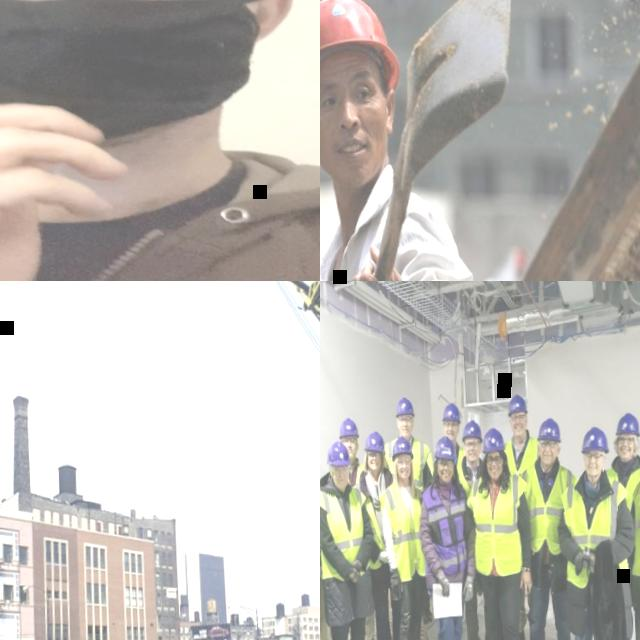Hardhat: (320, 0, 403, 108), (581, 424, 611, 453), (614, 410, 640, 437), (326, 440, 351, 467), (536, 417, 562, 442), (482, 426, 507, 452), (391, 435, 415, 461), (433, 435, 457, 460), (364, 430, 387, 454), (462, 418, 484, 443), (338, 416, 360, 439), (508, 392, 529, 415), (394, 396, 416, 417), (442, 401, 462, 422)
Mask: (0, 0, 276, 146)
NO-Mask: (320, 130, 385, 187), (585, 461, 603, 477), (487, 463, 504, 479), (540, 449, 558, 463), (618, 445, 635, 459), (512, 422, 527, 437), (335, 474, 350, 488), (438, 468, 453, 482), (466, 448, 480, 463), (398, 424, 414, 437), (368, 459, 382, 472), (398, 467, 412, 480), (445, 428, 458, 441), (347, 446, 359, 459)
NO-Safety Vest: (0, 154, 320, 281), (320, 200, 461, 281)
Person: (0, 0, 320, 281), (320, 0, 498, 281), (551, 422, 640, 640), (512, 413, 591, 640), (461, 423, 541, 640), (377, 394, 444, 640), (413, 435, 486, 640), (320, 439, 386, 640), (498, 393, 551, 640), (376, 434, 436, 640), (450, 416, 501, 640), (353, 428, 405, 640), (333, 416, 380, 640), (438, 401, 477, 640), (603, 408, 640, 640), (320, 422, 339, 640)
Safety Vest: (559, 469, 634, 587), (465, 469, 532, 578), (516, 457, 584, 557), (320, 483, 372, 583), (378, 482, 427, 584), (419, 481, 472, 575), (352, 478, 388, 571), (384, 434, 434, 490), (604, 462, 640, 512), (504, 436, 542, 476), (425, 442, 466, 477), (457, 454, 486, 495), (347, 463, 366, 486)
